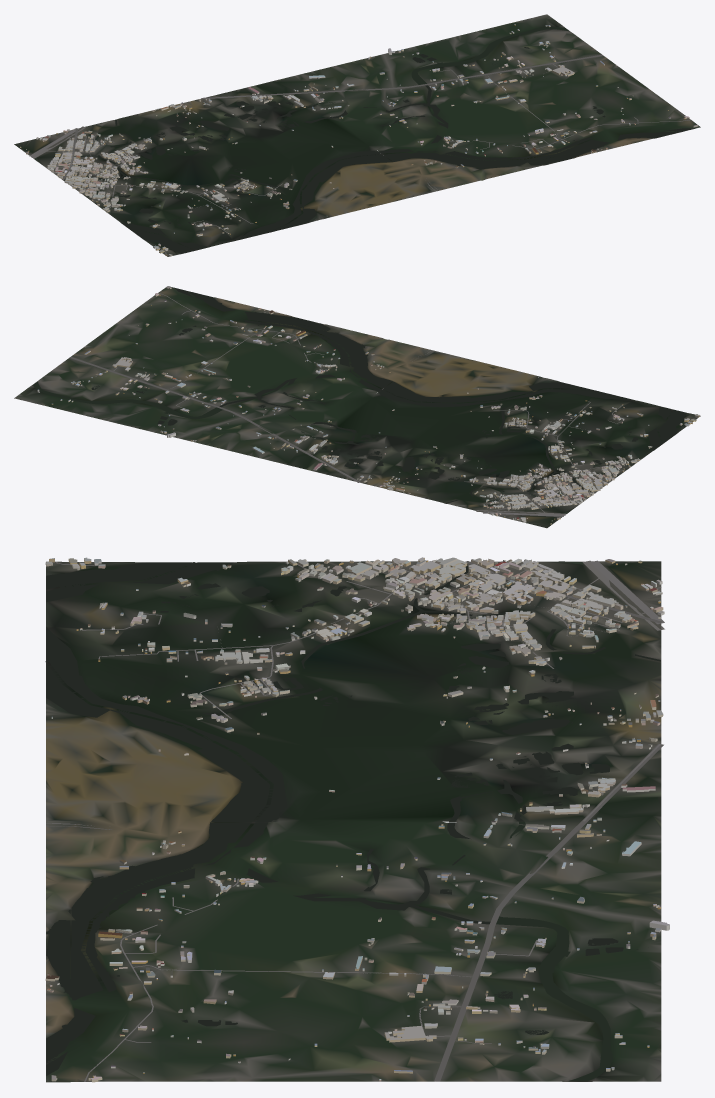
3 views of the same model, one above another, from view 1: azimuth 30°, elevation 25°; view 2: azimuth 150°, elevation 25°; view 3: azimuth 270°, elevation 25° (orthographic). The views are drawn at different scales.
Visible parts, largest first — view 1: ground, water, buildings, roads; view 2: ground, water, buildings, roads; view 3: ground, water, buildings, roads.
Boxes of the visible parts, box(x1,y1,x2,y2) form: ground: box(14, 14, 700, 256); water: box(34, 27, 693, 253); buildings: box(20, 24, 697, 256); roads: box(29, 54, 690, 253); ground: box(14, 286, 700, 528); water: box(33, 287, 686, 513); buildings: box(37, 286, 699, 524); roads: box(69, 293, 697, 521); ground: box(46, 561, 661, 1082); water: box(45, 561, 660, 1081); buildings: box(45, 557, 669, 1082); roads: box(46, 560, 664, 1081).
Bounding box in the file's own units: 2813 × 18.2 × 1422.
